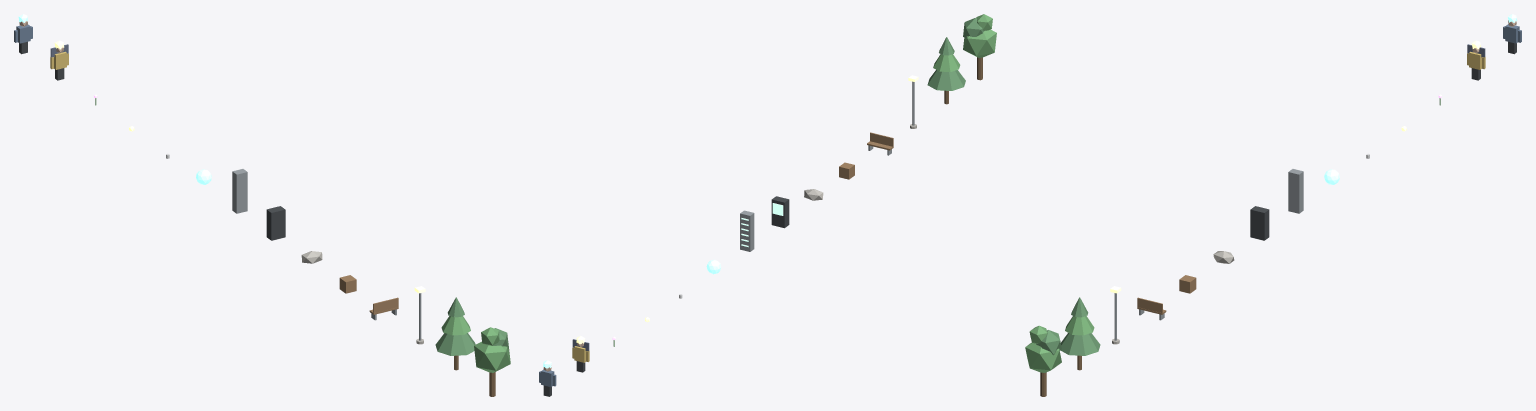
Rendered from kit.glb.
3 views of the same model, side by side, from view 1: azimuth 30°, elevation 25°; view 2: azimuth 150°, elevation 25°; view 3: azimuth 330°, elevation 25° (orthographic). The views are drawn at different scales.
Parts seen in each view (by area): view 1: kit_tree_a, kit_tree_b, kit_rack, kit_terminal, npc_generic, npc_kernel; view 2: kit_tree_a, kit_tree_b, kit_rack, kit_terminal, npc_generic, npc_kernel; view 3: kit_tree_a, kit_tree_b, kit_rack, kit_terminal, npc_generic, npc_kernel.
Boxes of the visible parts, x1=… form: kit_tree_a: x1=474, y1=327, x2=510, y2=396; kit_tree_b: x1=435, y1=297, x2=475, y2=370; kit_rack: x1=232, y1=169, x2=247, y2=213; kit_terminal: x1=266, y1=206, x2=285, y2=240; npc_generic: x1=14, y1=14, x2=32, y2=54; npc_kernel: x1=50, y1=40, x2=68, y2=80; kit_tree_a: x1=963, y1=14, x2=996, y2=80; kit_tree_b: x1=927, y1=37, x2=965, y2=104; kit_rack: x1=740, y1=210, x2=754, y2=251; kit_terminal: x1=771, y1=196, x2=789, y2=228; npc_generic: x1=539, y1=360, x2=556, y2=396; npc_kernel: x1=572, y1=336, x2=589, y2=372; kit_tree_a: x1=1025, y1=325, x2=1061, y2=396; kit_tree_b: x1=1060, y1=297, x2=1100, y2=370; kit_rack: x1=1288, y1=169, x2=1303, y2=213; kit_terminal: x1=1250, y1=206, x2=1269, y2=240; npc_generic: x1=1503, y1=14, x2=1521, y2=54; npc_kernel: x1=1467, y1=40, x2=1485, y2=80.
Size of the model in its own units: 2.4 by 4.4 by 53.25.
